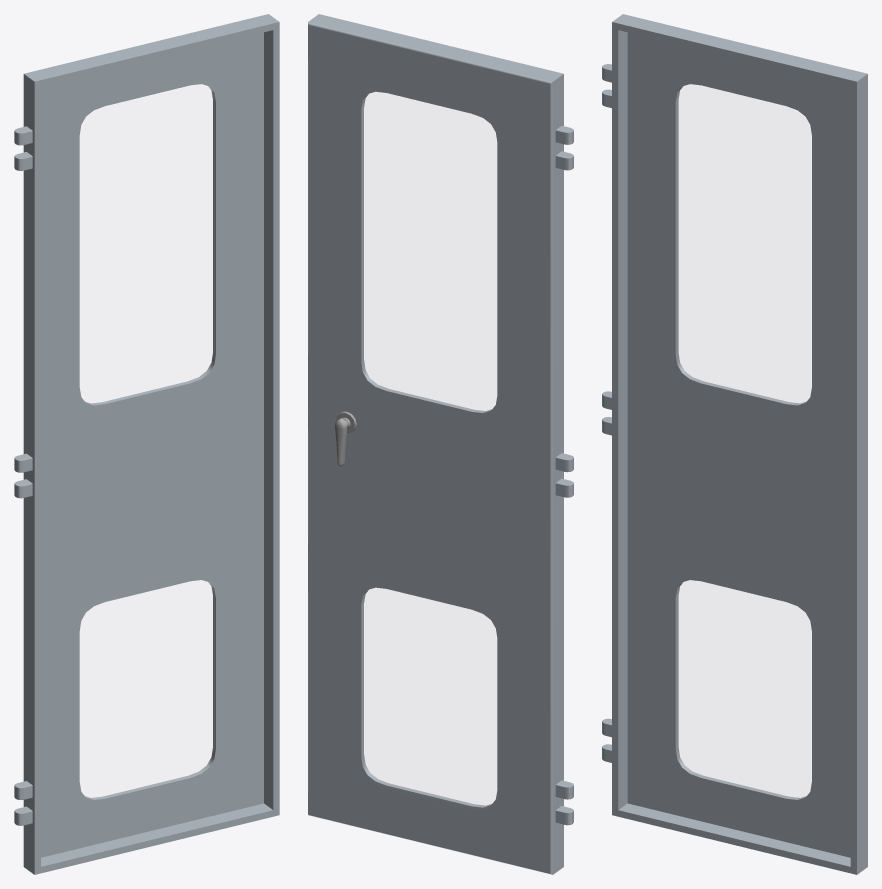
Rendered from PT_BACK_DOOR2.fbx.
The picture shows the model from 3 angles, left to right: view 1: azimuth 30°, elevation 25°; view 2: azimuth 150°, elevation 25°; view 3: azimuth 330°, elevation 25°; orthographic projection.
Visible parts, largest first — view 1: PT_BACK_DOOR12; view 2: PT_BACK_DOOR12; view 3: PT_BACK_DOOR12.
Part boxes in pixels (left/top/right/bottom): PT_BACK_DOOR12: left=14, top=14, right=279, bottom=874; PT_BACK_DOOR12: left=308, top=14, right=573, bottom=874; PT_BACK_DOOR12: left=602, top=14, right=867, bottom=874.
Bounding box in the file's own units: 0.6334 × 1.85 × 0.0875.
Materials: 2 (1 with a texture image).
